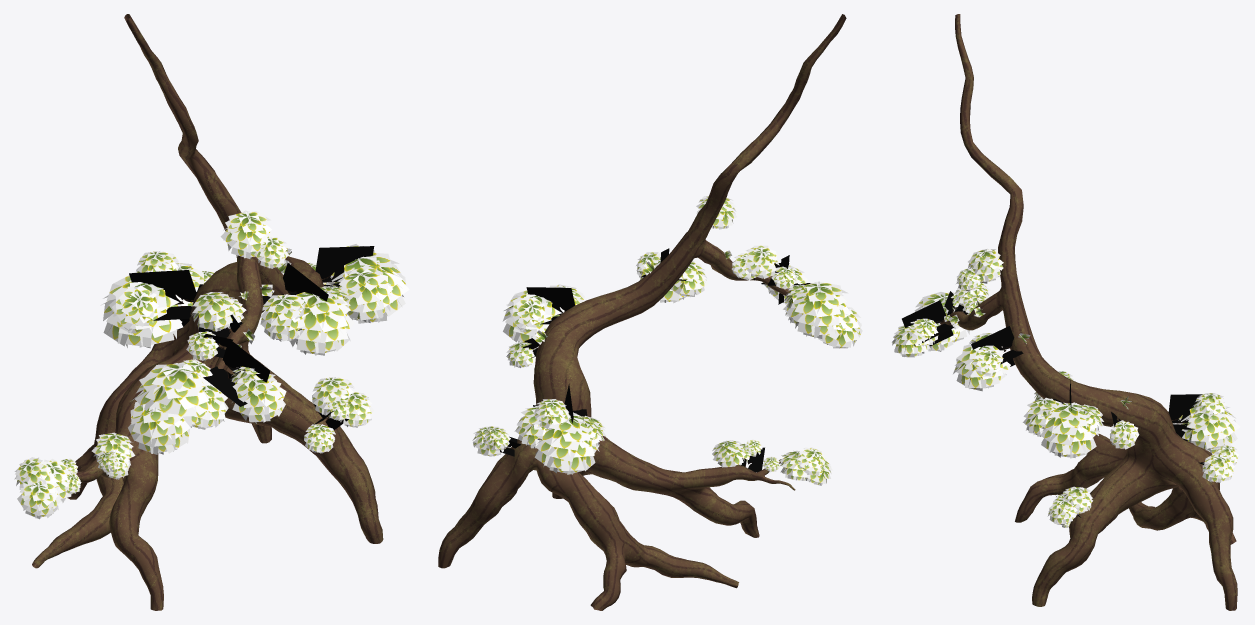
Rendered from Arq_Tree_Final.fbx.
3 views of the same model, side by side, from view 1: azimuth 30°, elevation 25°; view 2: azimuth 150°, elevation 25°; view 3: azimuth 270°, elevation 25° (orthographic). The views are drawn at different scales.
Parts seen in each view (by area): view 1: Hoja_85; view 2: Hoja_85; view 3: Hoja_85.
Part boxes in pixels (x1=…): Hoja_85: x1=14, y1=14, x2=409, y2=610; Hoja_85: x1=438, y1=14, x2=862, y2=610; Hoja_85: x1=892, y1=14, x2=1240, y2=610.
Size of the model in its own units: 7.97 by 12.37 by 8.07.
3 materials, 3 textured.
